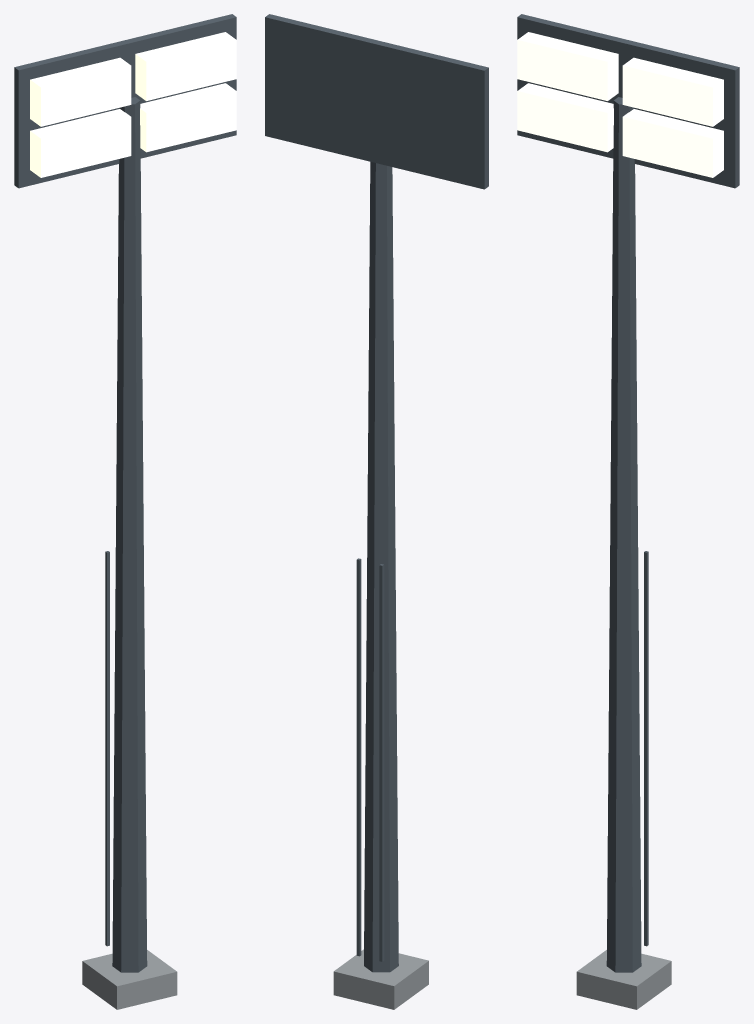
File: floodlight.glb
The picture shows the model from 3 angles, left to right: view 1: azimuth 30°, elevation 25°; view 2: azimuth 150°, elevation 25°; view 3: azimuth 330°, elevation 25°; orthographic projection.
Visible parts, largest first — view 1: Body, Lamp; view 2: Body; view 3: Body, Lamp.
Boxes of the visible parts, x1=… form: Body: x1=14, y1=14, x2=236, y2=1009; Lamp: x1=30, y1=32, x2=236, y2=177; Body: x1=265, y1=14, x2=488, y2=1009; Body: x1=517, y1=14, x2=739, y2=1009; Lamp: x1=517, y1=32, x2=723, y2=177.
Bounding box in the file's own units: 2.9 × 12 × 0.8.
